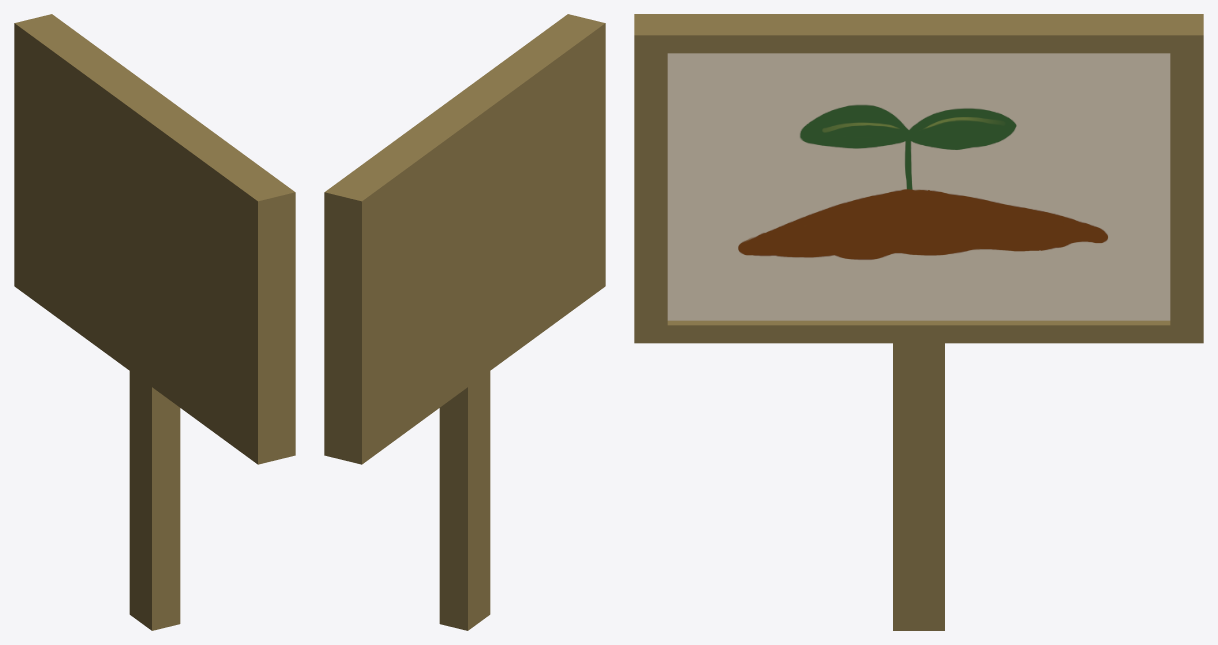
Rendered from sproutplantsign.fbx.
3 views of the same model, side by side, from view 1: azimuth 30°, elevation 25°; view 2: azimuth 150°, elevation 25°; view 3: azimuth 270°, elevation 25° (orthographic). The views are drawn at different scales.
Parts seen in each view (by area): view 1: Cube, Cube.001; view 2: Cube, Cube.001; view 3: Cube, Cube.001.
Boxes of the visible parts, x1=… form: Cube: x1=14, y1=14, x2=295, y2=464; Cube.001: x1=129, y1=371, x2=180, y2=630; Cube: x1=324, y1=14, x2=605, y2=464; Cube.001: x1=439, y1=371, x2=490, y2=630; Cube: x1=634, y1=14, x2=1203, y2=343; Cube.001: x1=893, y1=343, x2=944, y2=630.
Bounding box in the file's own units: 29.63 × 386 × 333.
